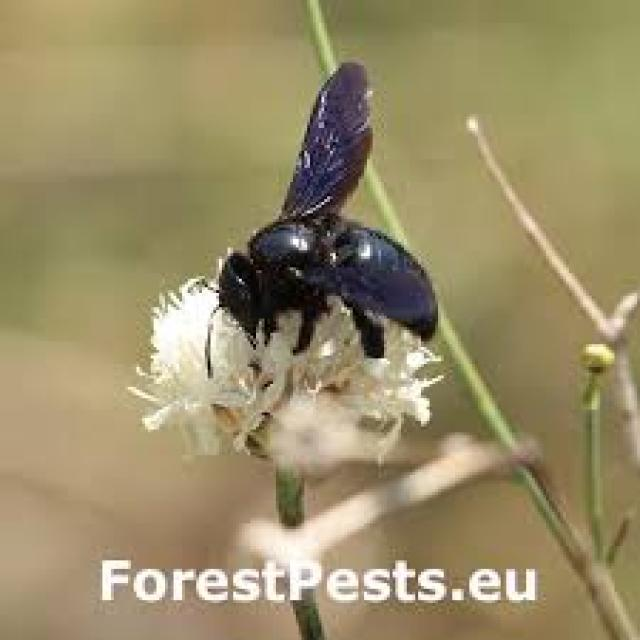Xylocopa: (220, 58, 479, 369)
